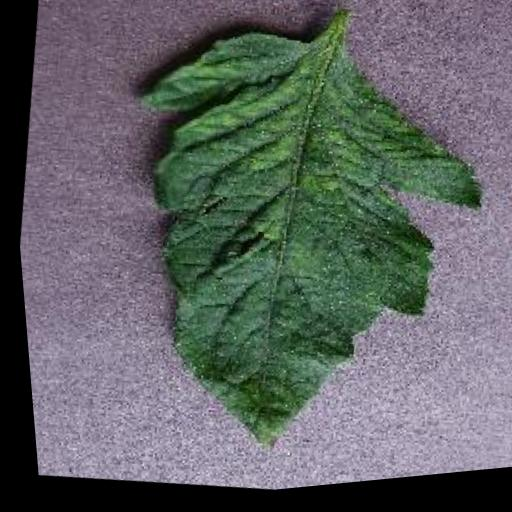Mosaic Virus: (79, 2, 512, 496)
